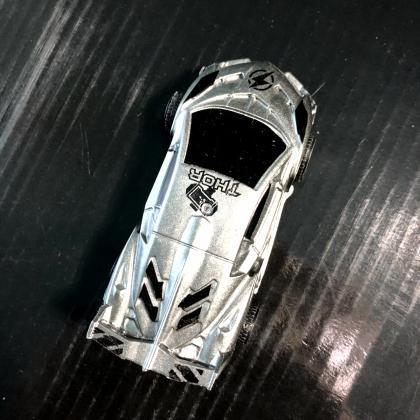Car: (85, 58, 318, 393)
